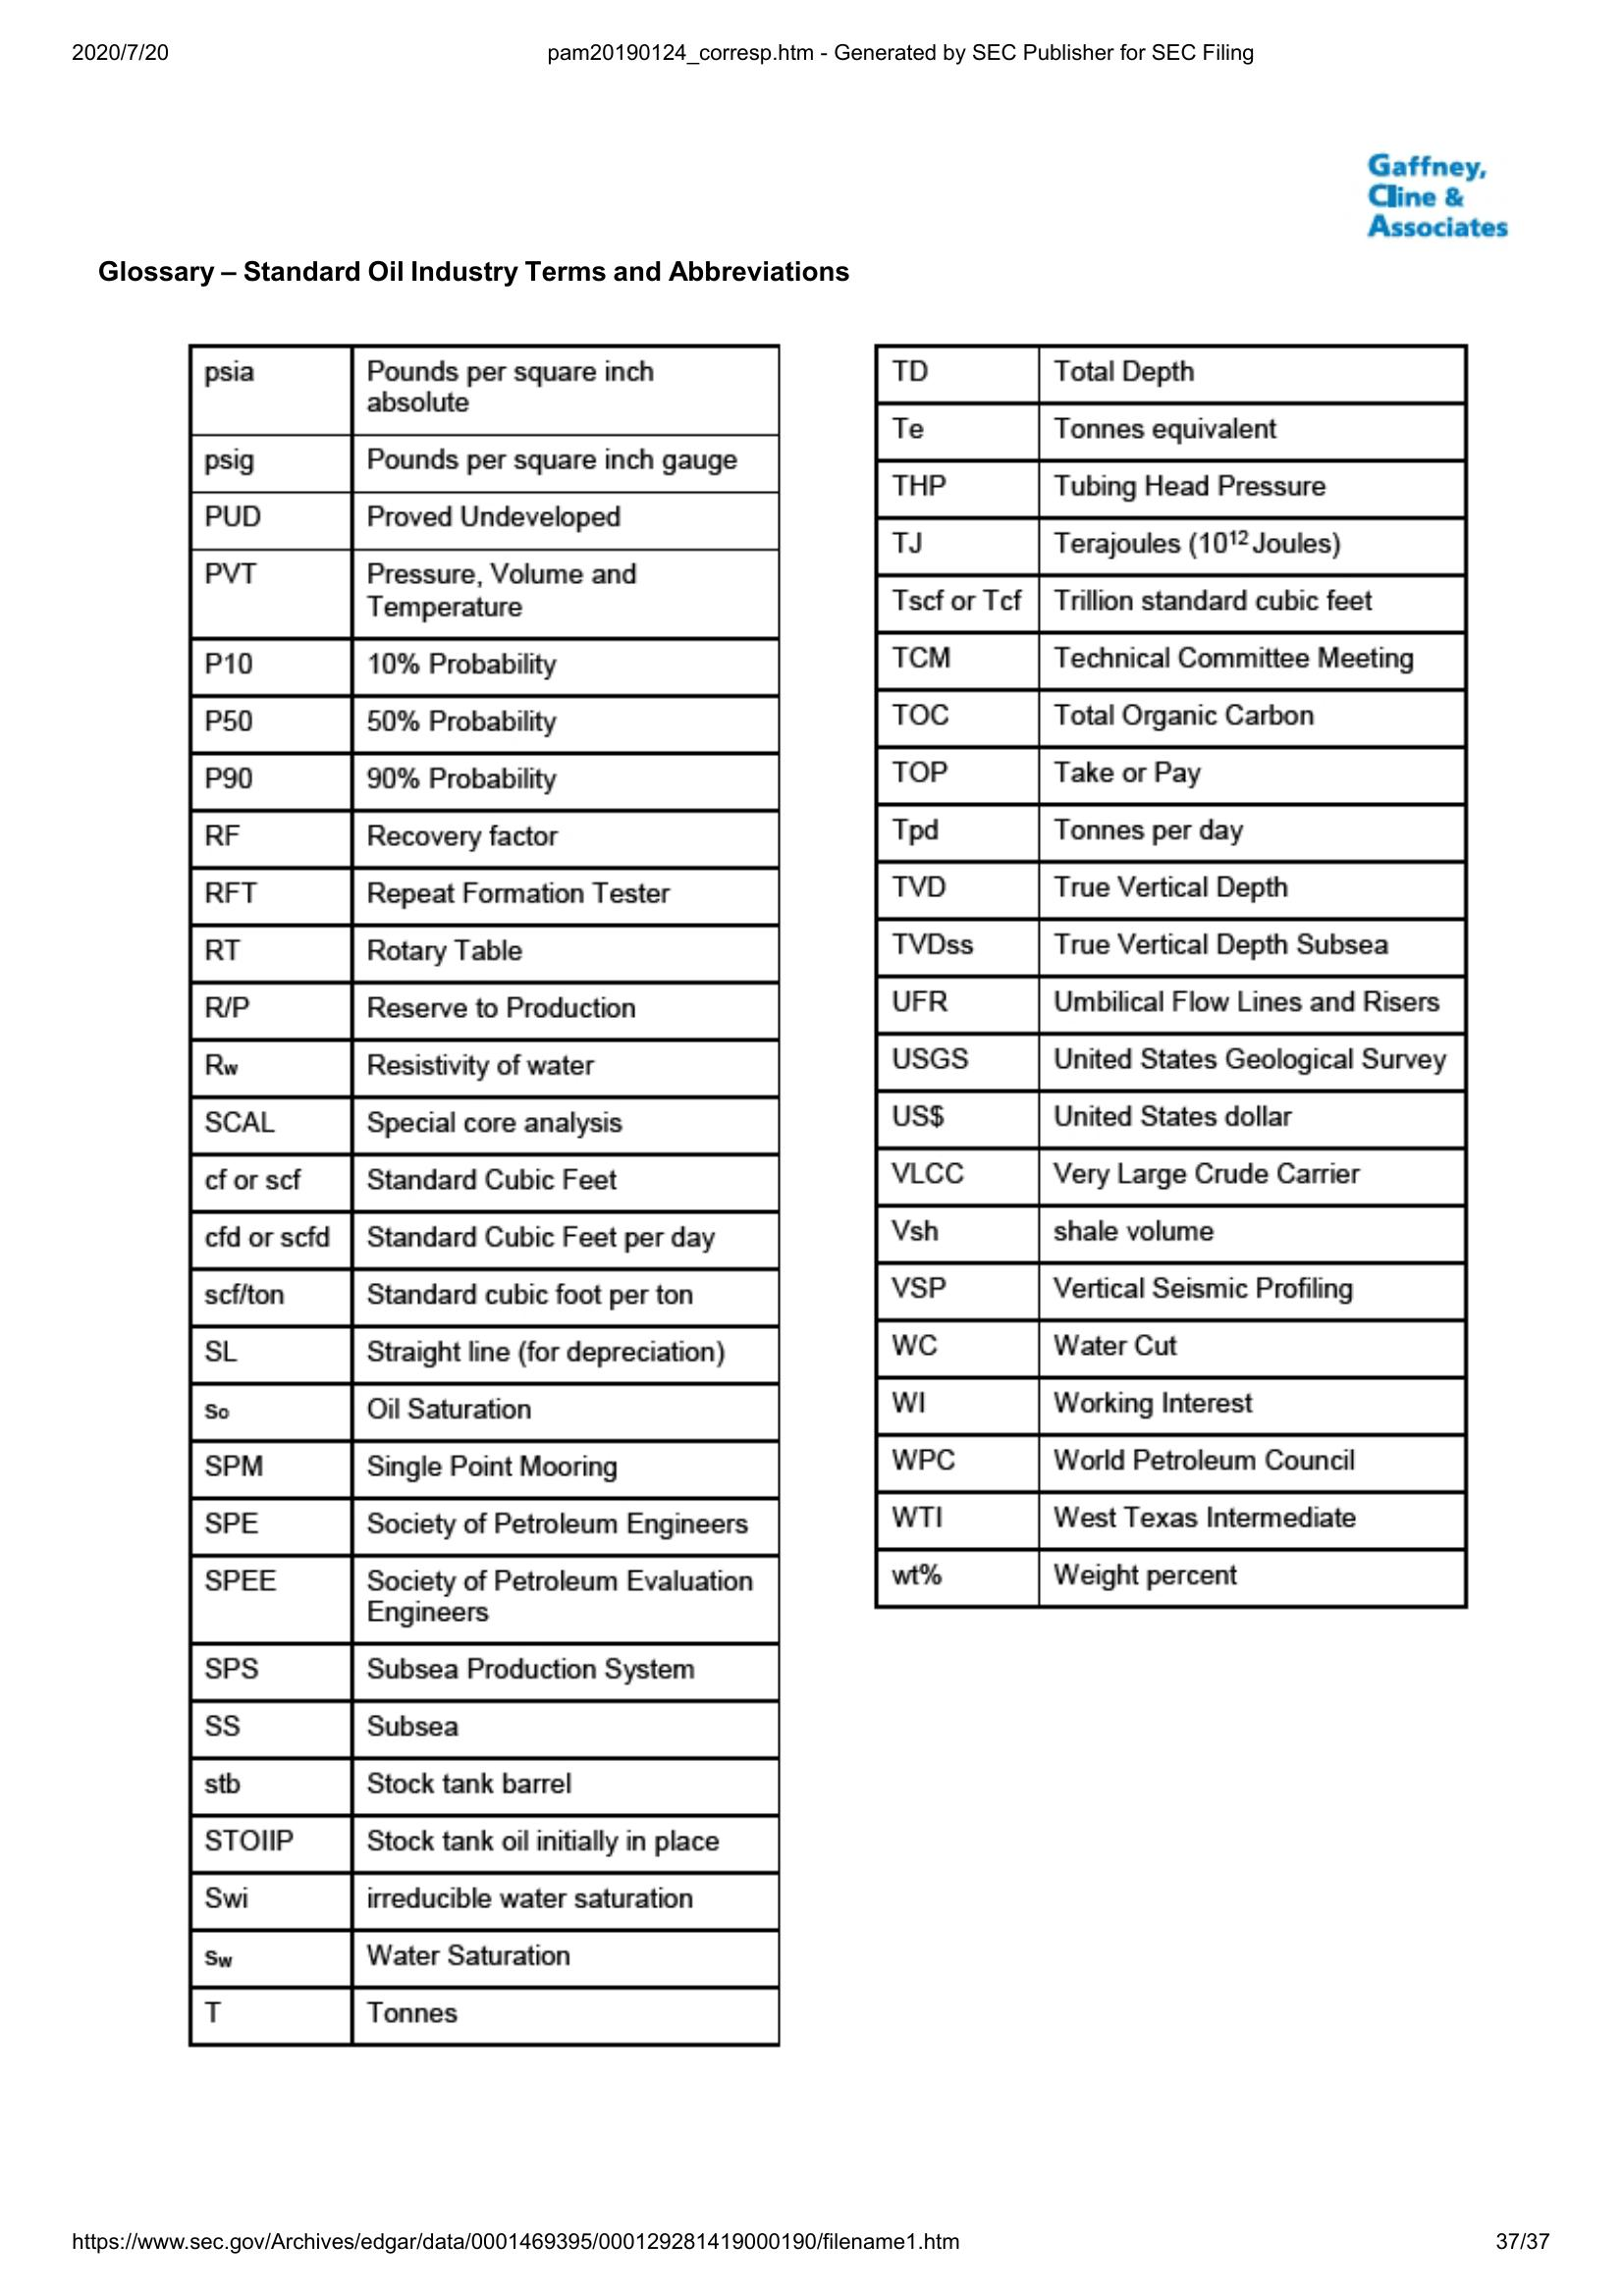table: (179, 335, 796, 2059), (864, 334, 1477, 1620)
